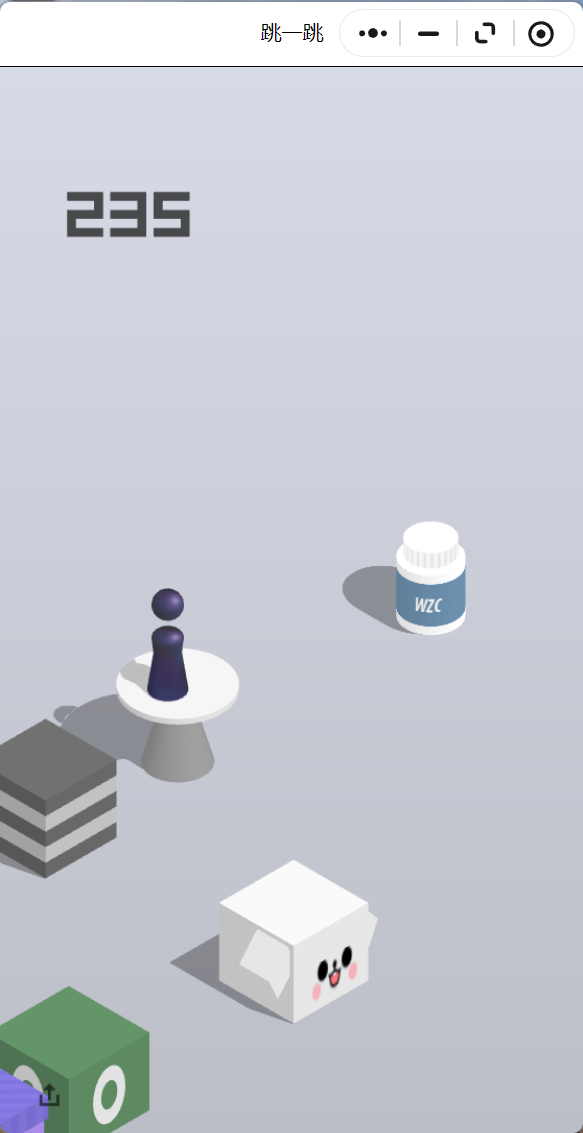piece: (152, 588, 184, 698)
target: (403, 521, 458, 554)
